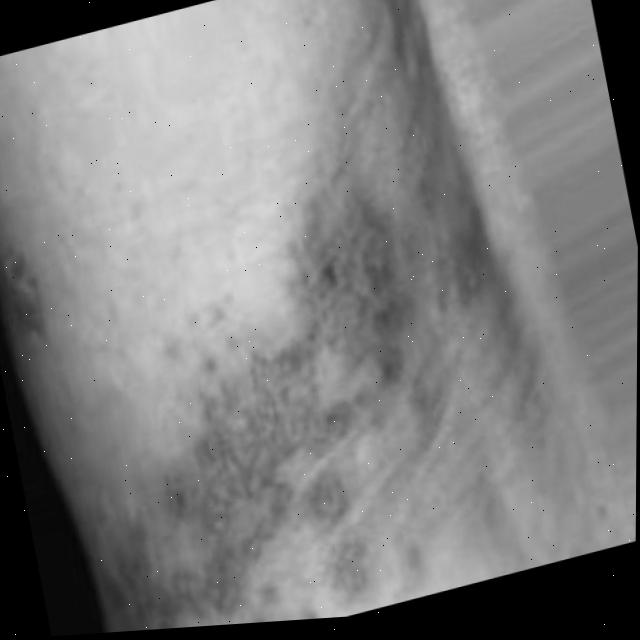Shingles: (78, 204, 461, 634)
